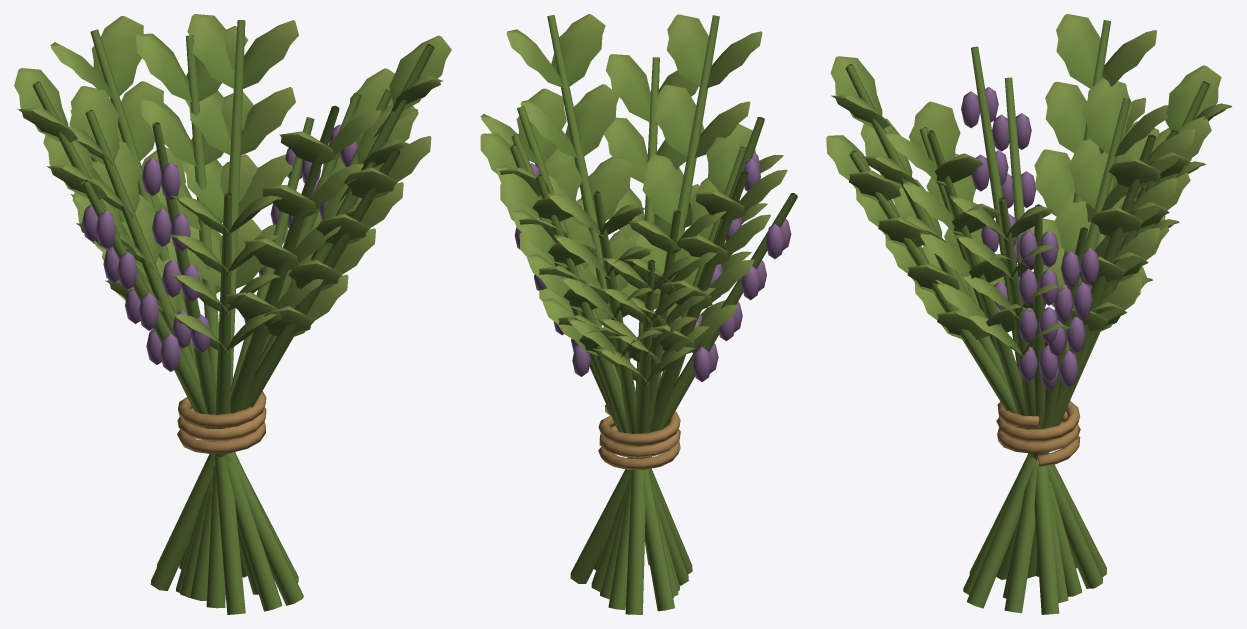
File: herb_bundle.glb
3 renders of one model, left to right at view 1: azimuth 30°, elevation 25°; view 2: azimuth 150°, elevation 25°; view 3: azimuth 270°, elevation 25°, orthographic. The views are drawn at different scales.
Parts seen in each view (by area): view 1: Plant; view 2: Plant; view 3: Plant.
Boxes of the visible parts, x1,y1,x2,y2 form: Plant: (14, 14, 451, 614); Plant: (480, 14, 797, 614); Plant: (826, 14, 1231, 614).
Bounding box in the file's own units: 0.2349 × 0.3434 × 0.2378.
